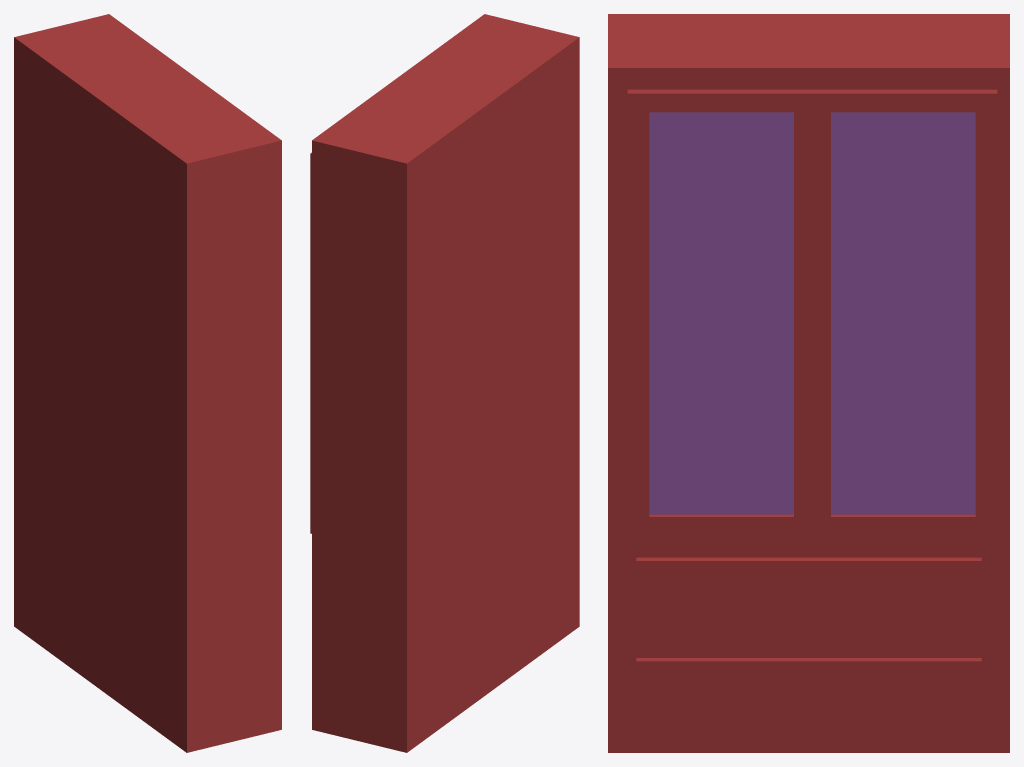
The model's file is cabinet.fbx.
The picture shows the model from 3 angles, left to right: view 1: azimuth 30°, elevation 25°; view 2: azimuth 150°, elevation 25°; view 3: azimuth 270°, elevation 25°; orthographic projection. The views are drawn at different scales.
Parts seen in each view (by area): view 1: pCube15; view 2: pCube15, pPlane3; view 3: pPlane3, pCube15.
Part boxes in pixels (left/top/right/bottom): pCube15: left=14, top=14, right=281, bottom=752; pCube15: left=312, top=14, right=579, bottom=752; pPlane3: left=310, top=152, right=311, bottom=533; pPlane3: left=627, top=89, right=997, bottom=535; pCube15: left=608, top=14, right=1009, bottom=752.
Bounding box in the file's own units: 8.23 × 45.35 × 24.1.
